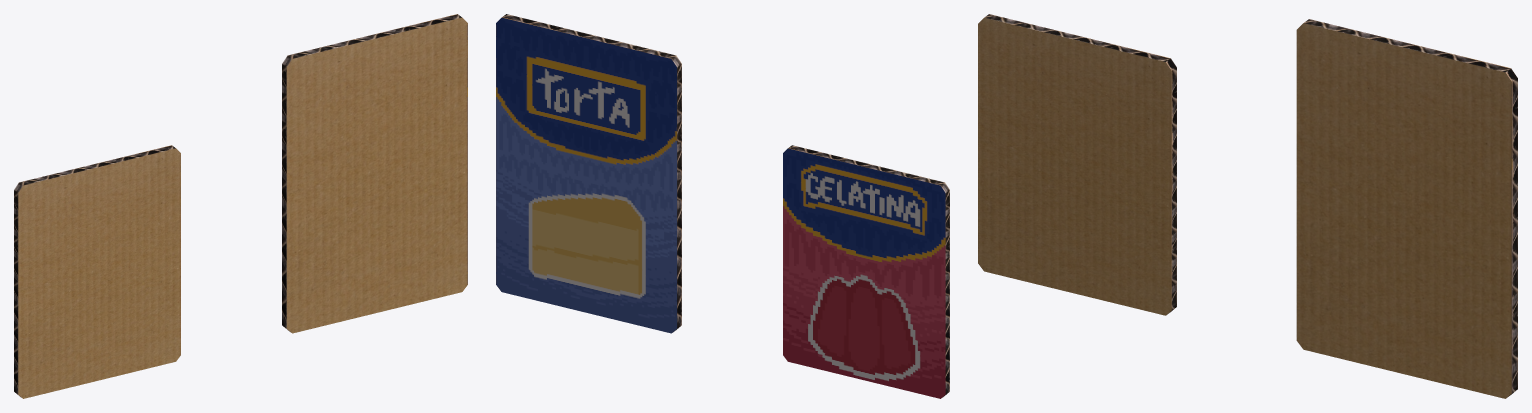
The model's file is GELATINA.glb.
The picture shows the model from 3 angles, left to right: view 1: azimuth 30°, elevation 25°; view 2: azimuth 150°, elevation 25°; view 3: azimuth 330°, elevation 25°; orthographic projection. The views are drawn at different scales.
Parts seen in each view (by area): view 1: TORTA, GELATINA; view 2: TORTA, GELATINA; view 3: TORTA, GELATINA.
Boxes of the visible parts, x1,y1,x2,y2 form: TORTA: (282, 14, 467, 333); GELATINA: (14, 145, 180, 398); TORTA: (496, 14, 681, 333); GELATINA: (783, 145, 949, 398); TORTA: (1296, 19, 1517, 398); GELATINA: (978, 14, 1176, 315).
Bounding box in the file's own units: 7.38 × 4.31 × 0.1359.
Materials: 2 (2 with a texture image).
